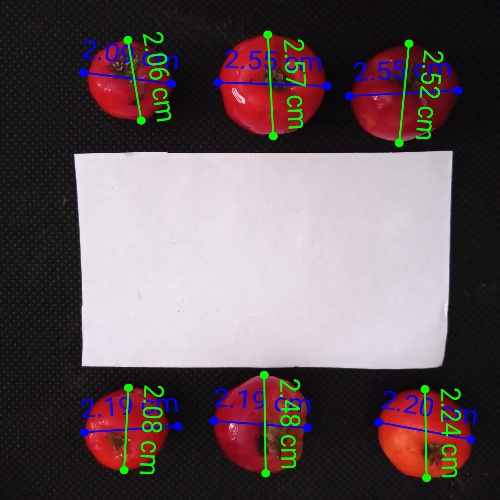acerola: (220, 35, 325, 136), (351, 46, 457, 140), (213, 376, 308, 474), (377, 389, 471, 477), (85, 387, 173, 472), (89, 41, 170, 120)
cartao: (82, 156, 448, 368)
